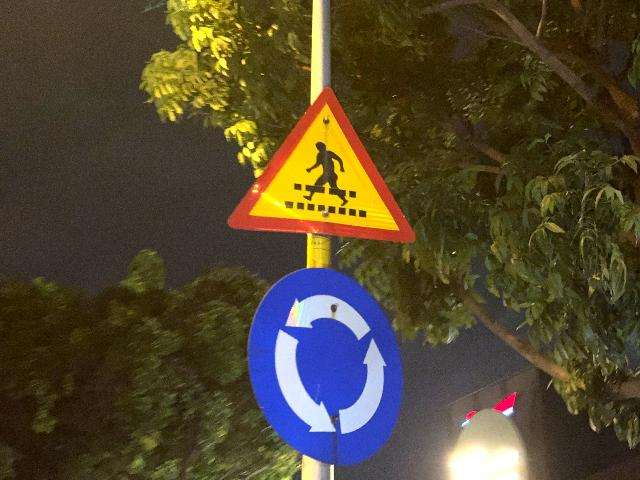duong-nguoi-di-bo-cat-ngang: (228, 87, 417, 244)
noi-giao-nhau-chay-theo-vong-xuyen: (247, 267, 405, 469)
